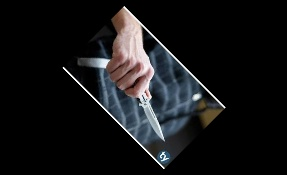k1: (136, 96, 168, 144)
